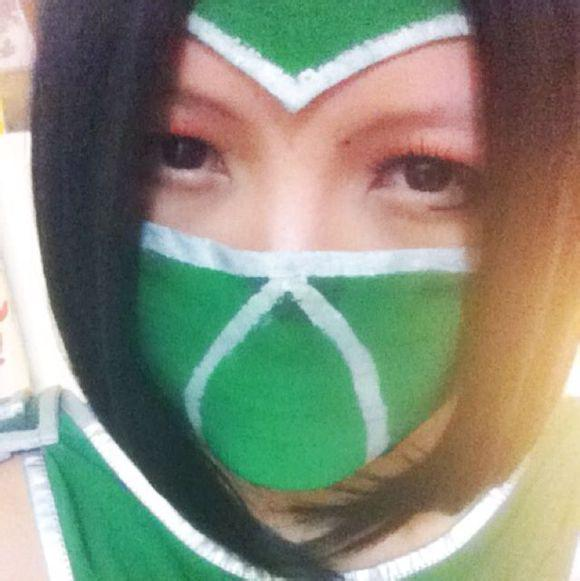OK: (97, 45, 521, 469)
